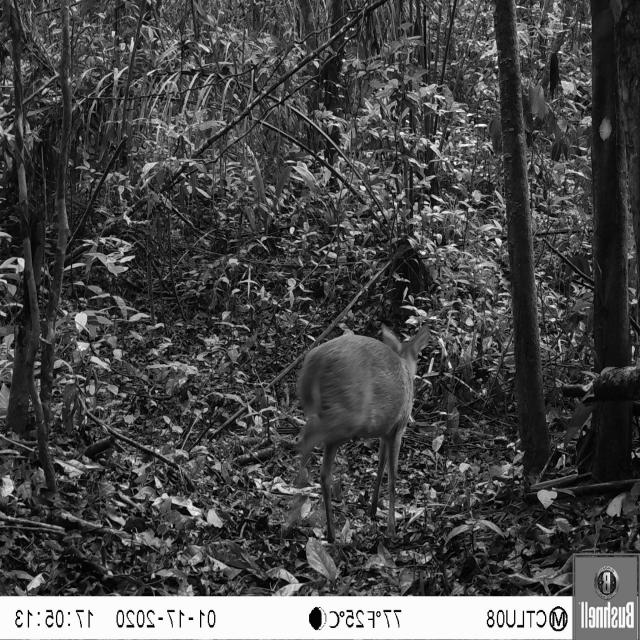White-tailed Deer: (283, 319, 439, 548)
